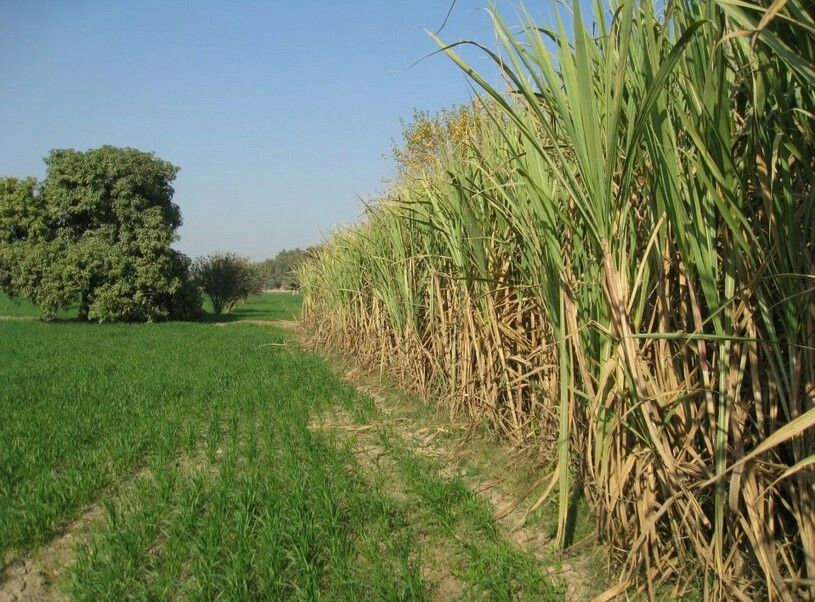sugarcane: (550, 1, 809, 588), (291, 54, 547, 457), (286, 95, 551, 277)
